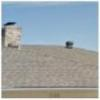chimneys: (2, 20, 22, 48)
